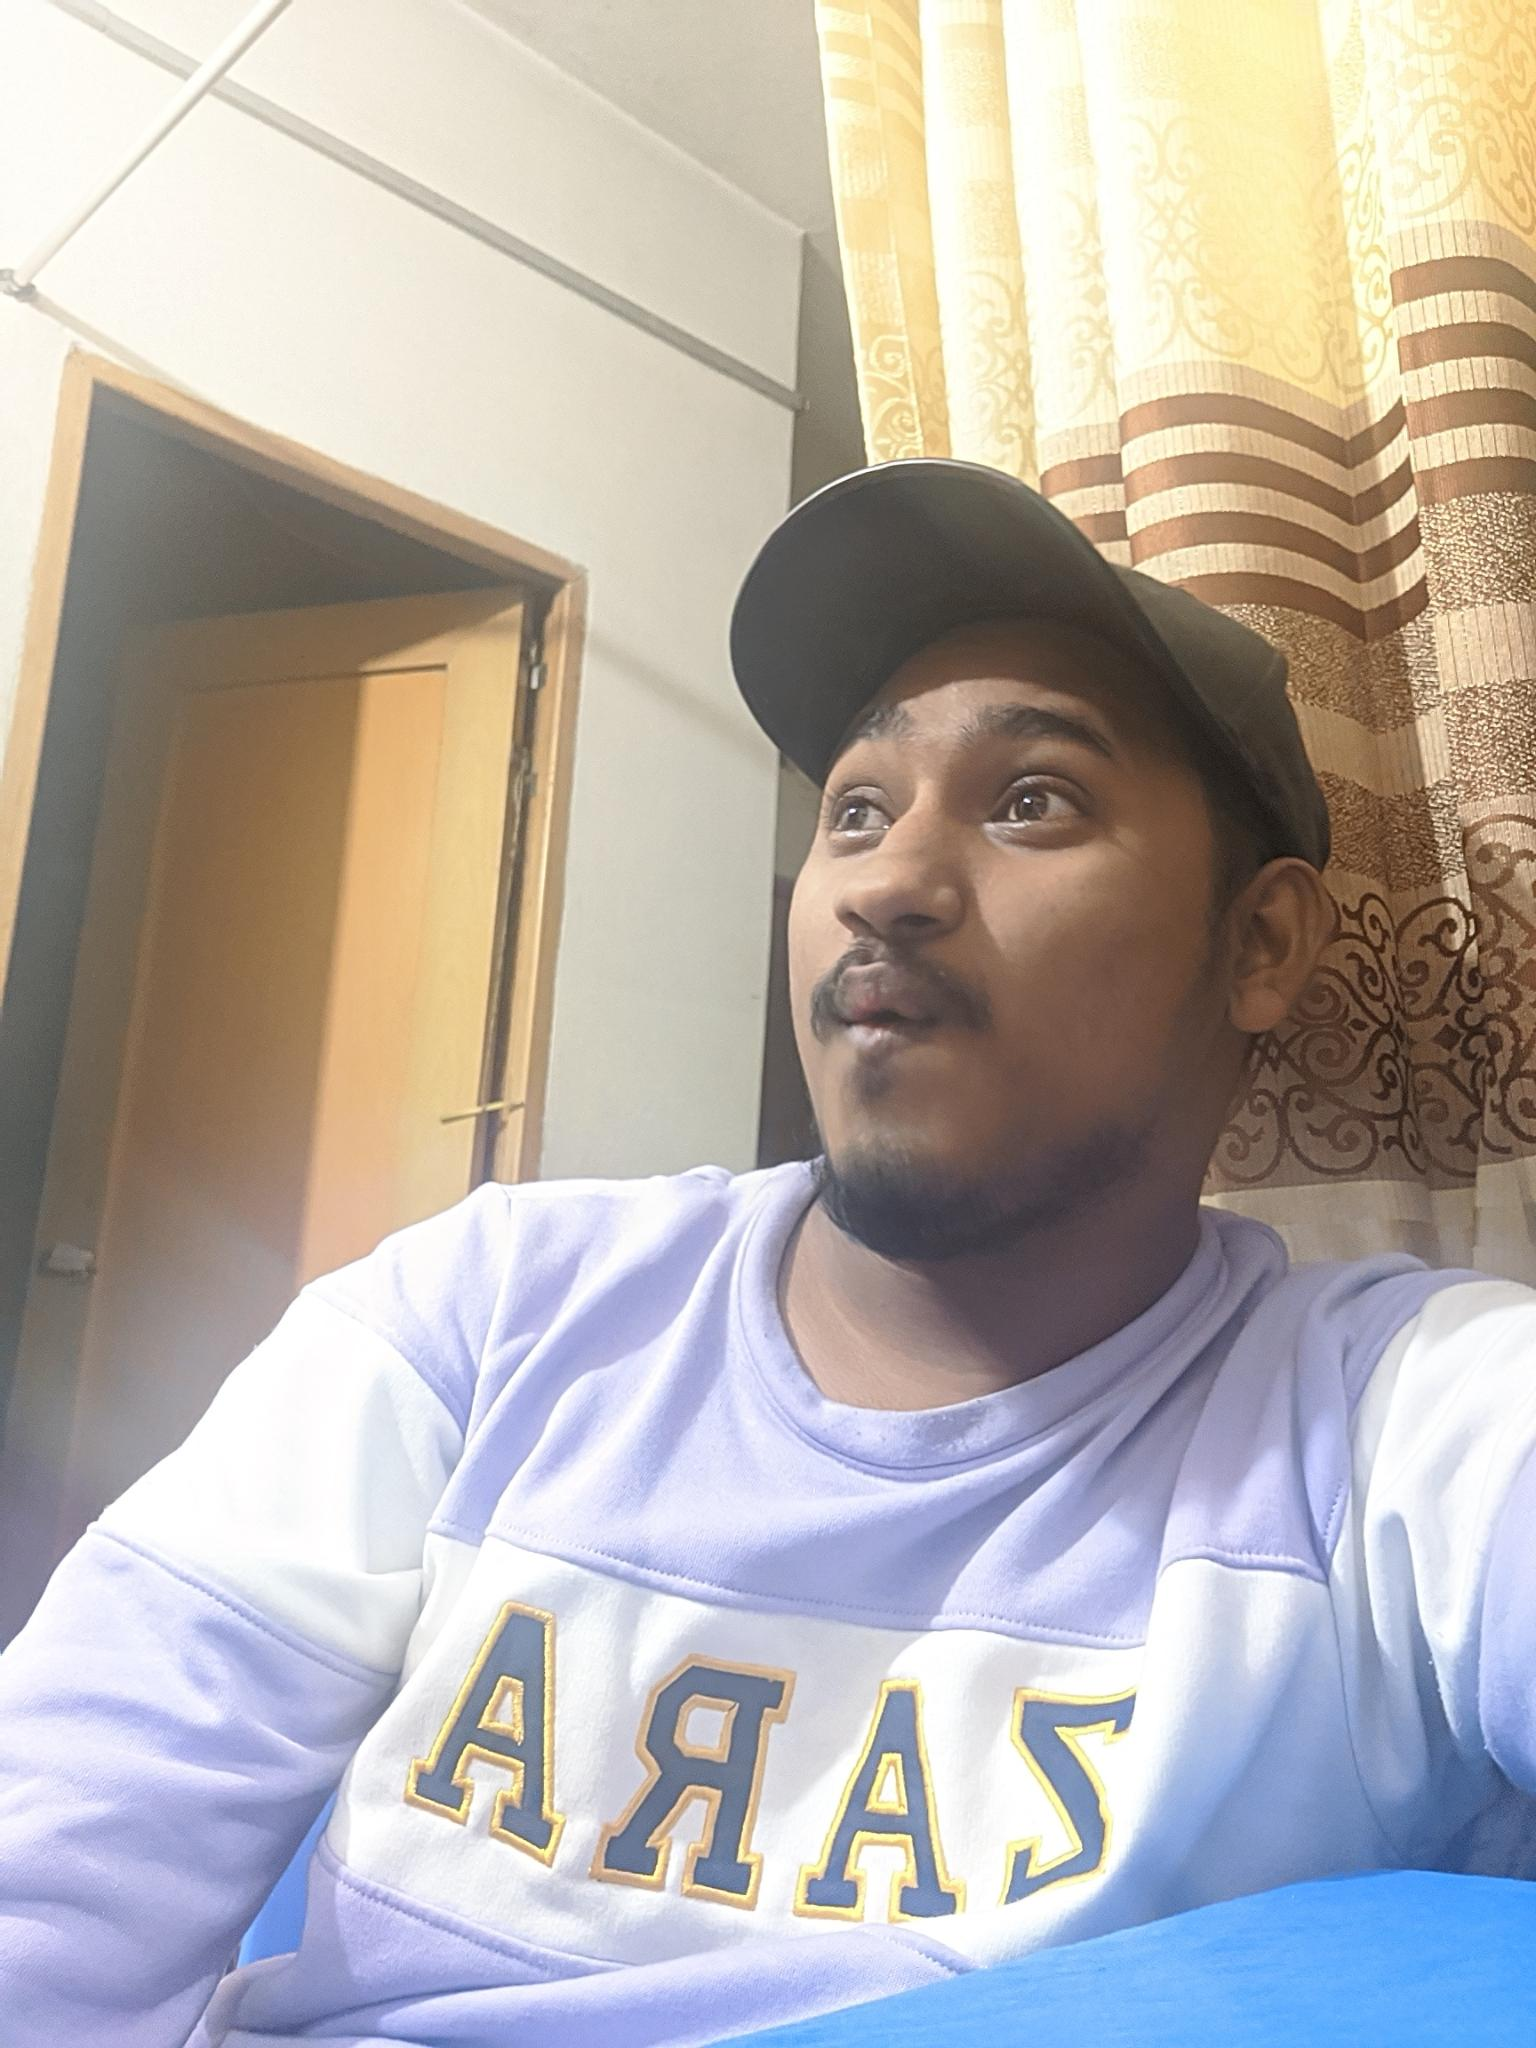Surprise: (757, 663, 1152, 1197)
